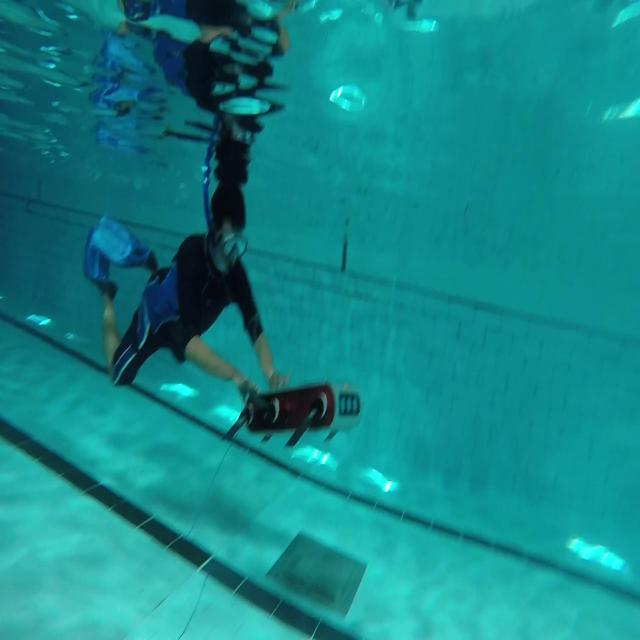human: (84, 110, 290, 408)
